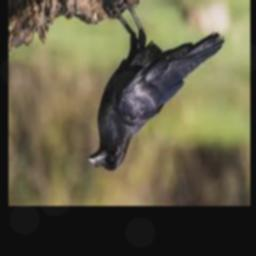Crow: (86, 0, 225, 172)
